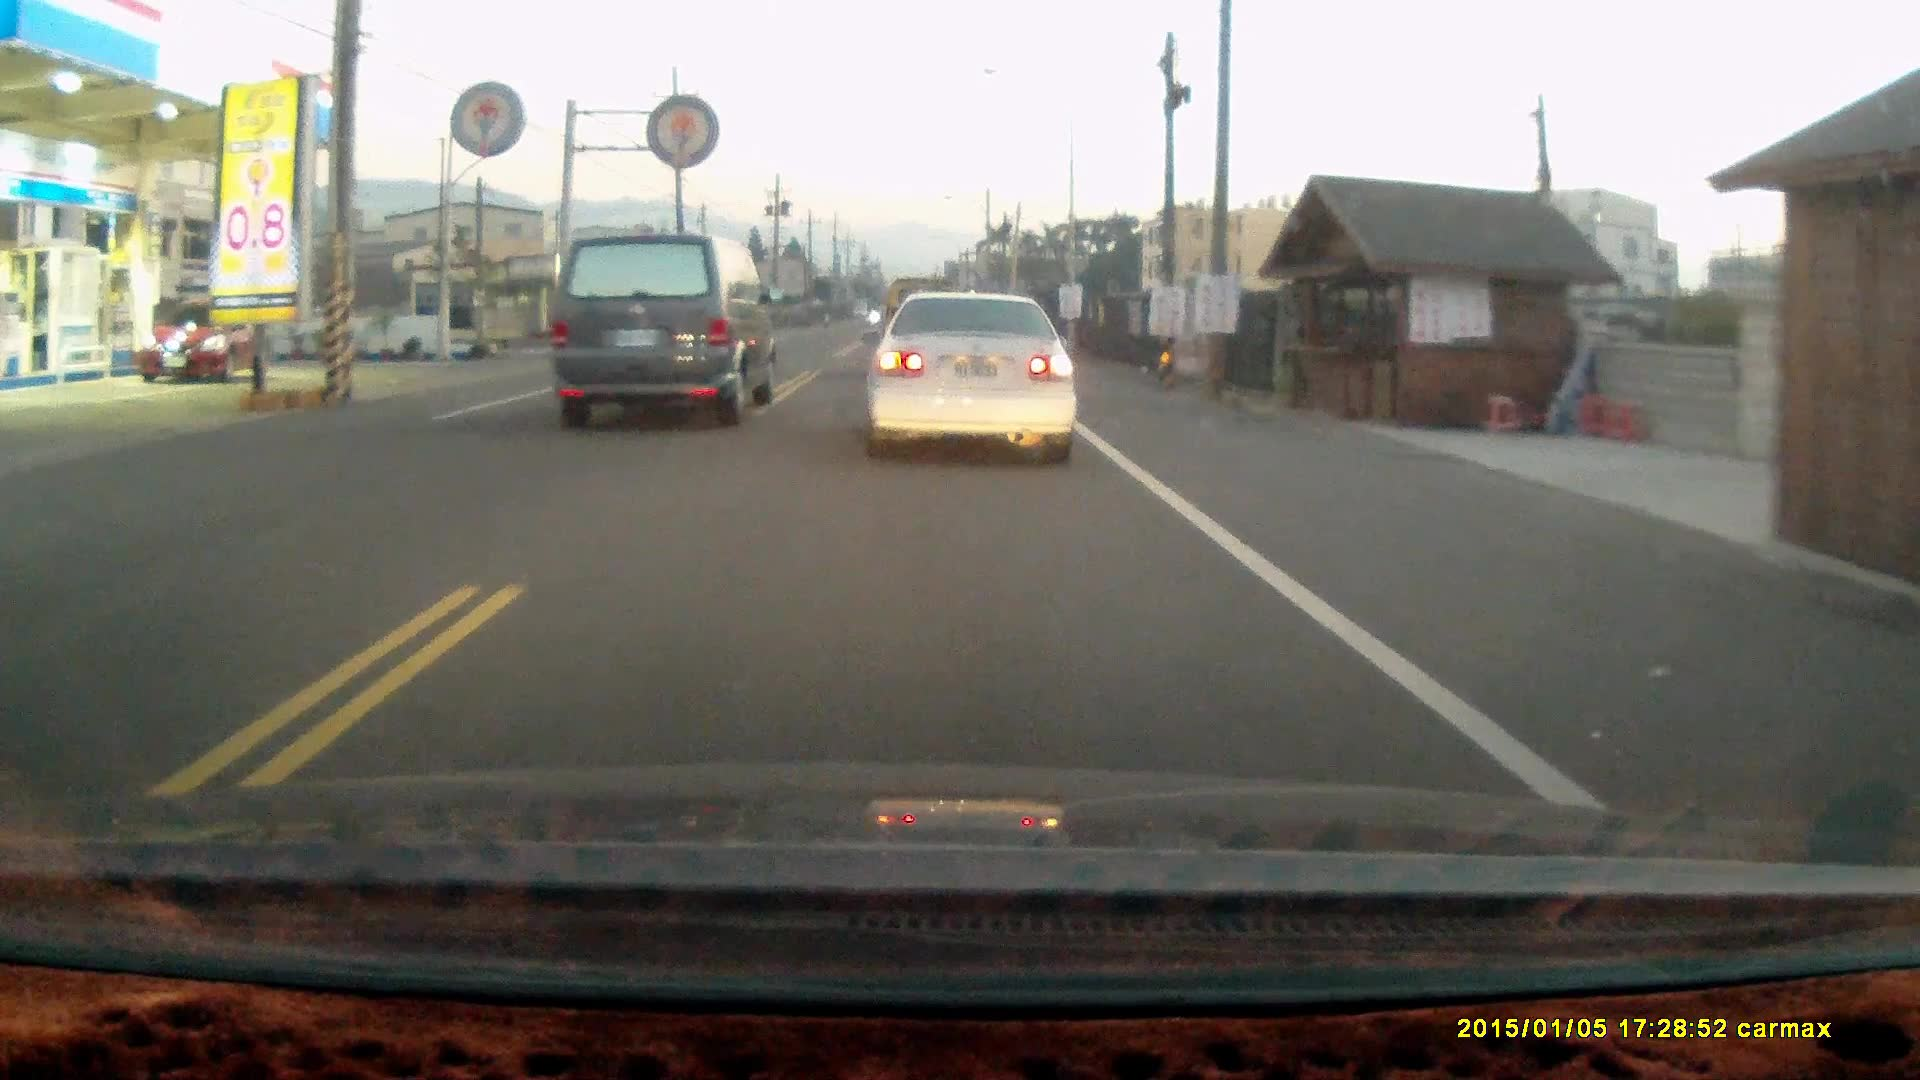vehicle: (550, 233, 775, 423), (862, 284, 1089, 464), (137, 293, 272, 386)
